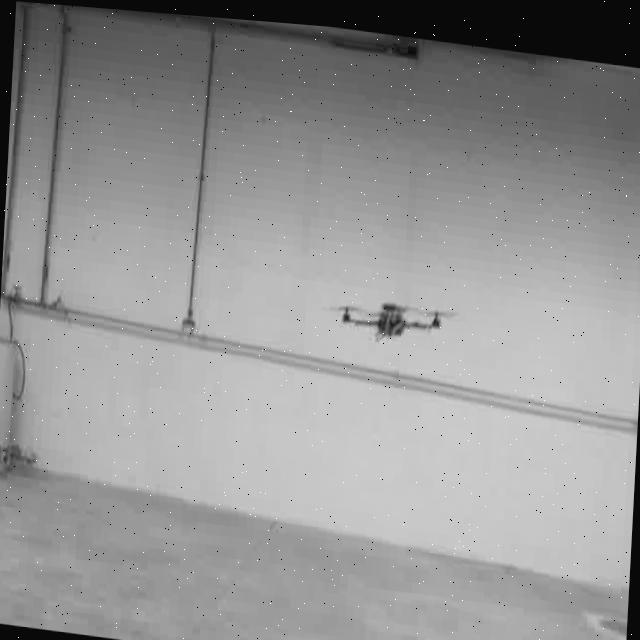drone: (331, 279, 446, 349)
